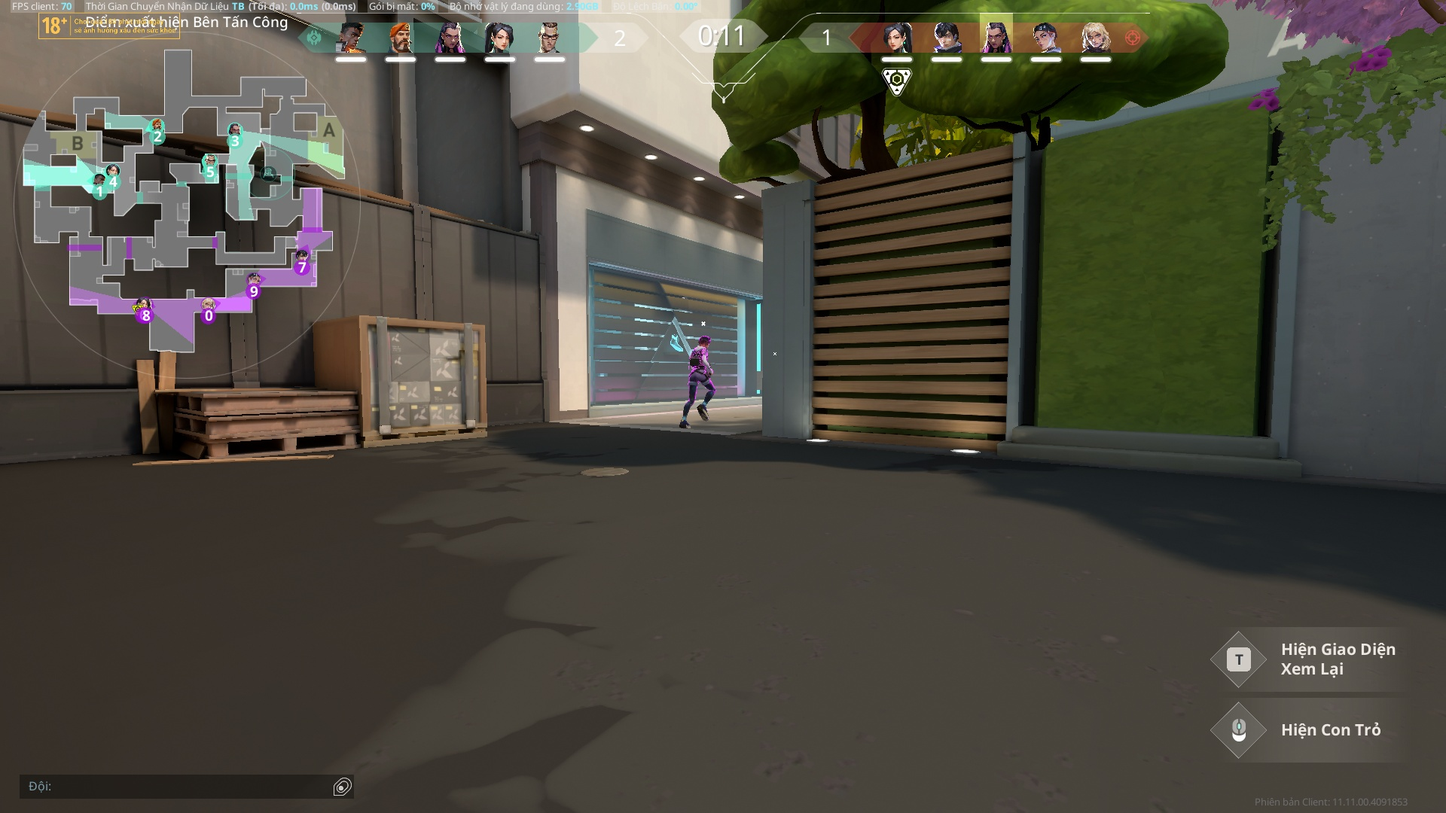body: (690, 347, 707, 370)
head: (697, 335, 709, 347)
